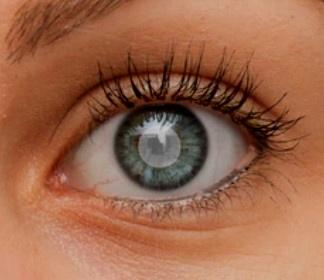eye: (114, 104, 210, 192)
